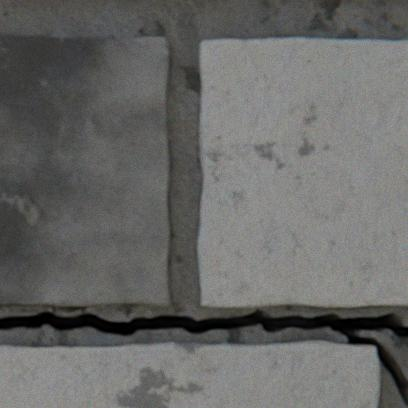brick: (196, 38, 407, 308), (0, 38, 171, 307), (0, 341, 378, 407), (337, 0, 387, 1), (149, 0, 194, 1)
crack: (0, 308, 407, 406)
